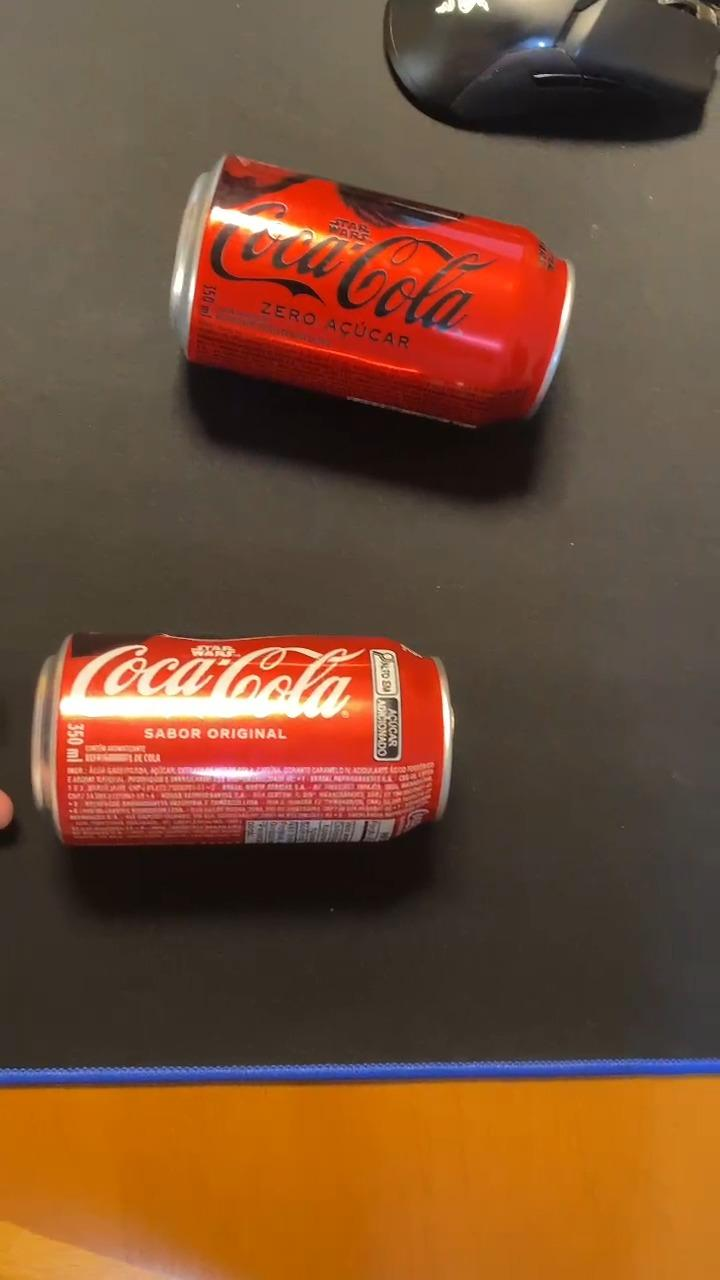coke: (162, 156, 575, 425), (33, 632, 460, 846)
